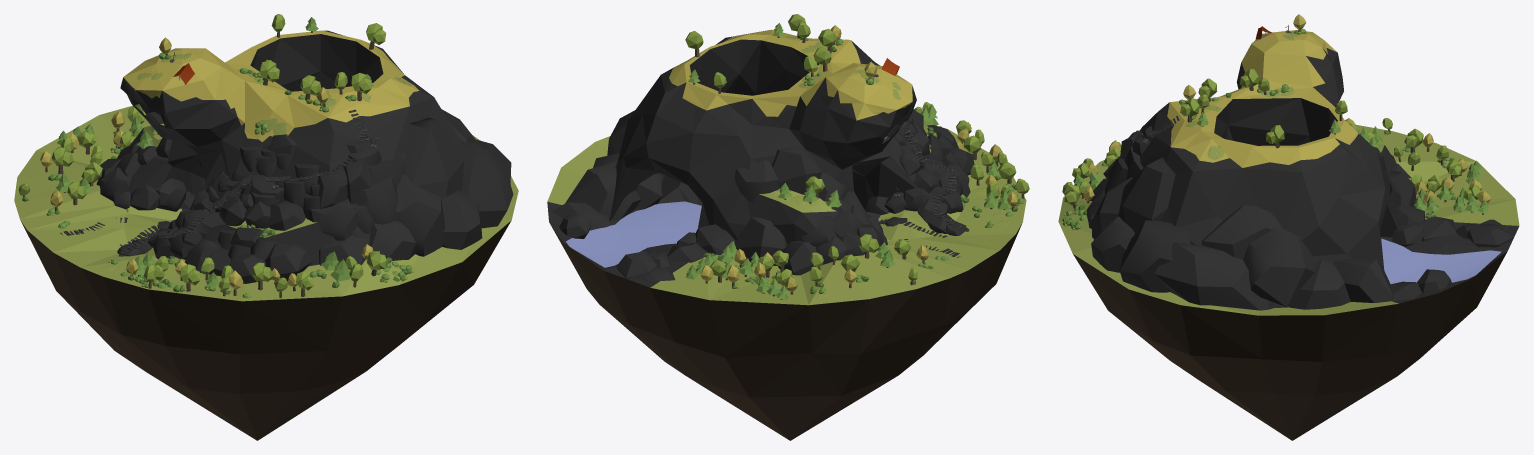
File: cavernkeepers.fbx
The picture shows the model from 3 angles, left to right: view 1: azimuth 30°, elevation 25°; view 2: azimuth 150°, elevation 25°; view 3: azimuth 270°, elevation 25°; orthographic projection. The views are drawn at different scales.
Visible parts, largest first — view 1: Cavern Freaky Turtle, Circle.043, Circle.042, Circle.040, Circle.041, Circle.034, Another Stone.011, Circle.036, Circle.014, Circle.004, Circle.035, Circle.005 (+12 smaller); view 2: Cavern Freaky Turtle, Circle.047, Circle.062, Circle.061, Circle.063, Circle.046, Circle.057, Circle.053, Circle.048, Circle.051, Circle.052, Circle.058 (+6 smaller); view 3: Cavern Freaky Turtle, Circle.044, Circle.045, Circle.042, Circle.043, Circle.056, Circle.047, Circle.046, Circle.041, Circle.040, Circle.053, Circle.050 (+6 smaller).
Boxes of the visible parts, x1,y1,x2,y2 form: Cavern Freaky Turtle: (14,30,518,440); Circle.043: (405,117,464,200); Circle.042: (460,142,513,228); Circle.040: (394,174,445,256); Circle.041: (442,190,482,249); Circle.034: (369,220,417,260); Another Stone.011: (355,176,398,224); Circle.036: (303,203,357,240); Circle.014: (264,242,312,281); Circle.004: (317,164,347,208); Circle.035: (319,235,369,265); Circle.005: (267,200,305,230); Cavern Freaky Turtle: (547,29,1026,440); Circle.047: (565,161,641,220); Circle.062: (772,147,821,194); Circle.061: (734,217,787,265); Circle.063: (734,160,778,201); Circle.046: (593,153,661,210); Circle.057: (777,241,816,275); Circle.053: (616,251,657,278); Circle.048: (695,224,735,255); Circle.051: (552,202,610,229); Circle.052: (559,213,591,238); Circle.058: (800,216,836,247); Cavern Freaky Turtle: (1058,30,1519,440); Circle.044: (1153,242,1273,310); Circle.045: (1243,227,1315,307); Circle.042: (1119,220,1190,292); Circle.043: (1118,157,1175,233); Circle.056: (1201,205,1281,259); Circle.047: (1333,257,1393,302); Circle.046: (1289,259,1350,309); Circle.041: (1091,216,1134,272); Circle.040: (1092,177,1132,239); Circle.053: (1467,223,1513,247); Circle.050: (1419,216,1456,241).
Size of the model in its own units: 6227 by 5771 by 6224.
